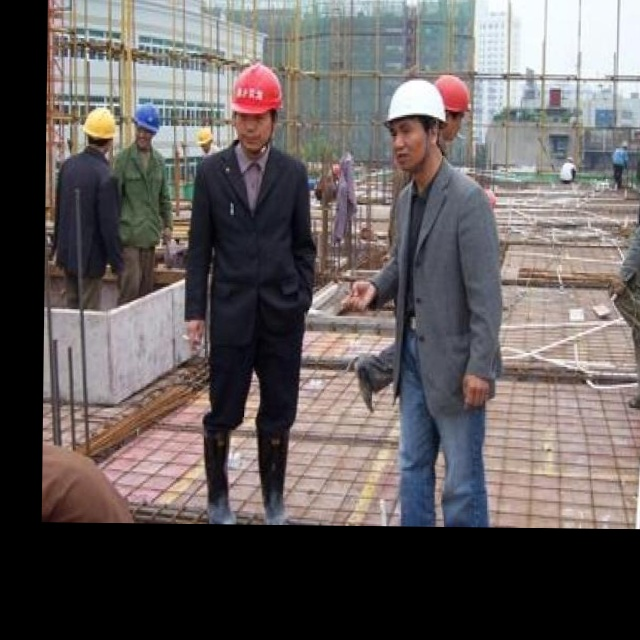Con_Casco: (384, 79, 442, 173), (229, 64, 281, 147)
Sin_Chaleco: (190, 150, 307, 319), (392, 183, 487, 345)
